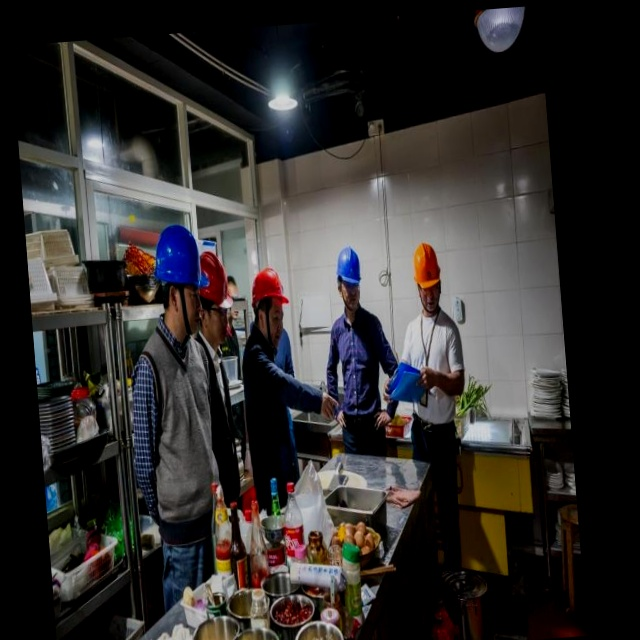Con_Casco: (151, 226, 206, 330), (249, 271, 290, 341), (411, 246, 443, 310)
Sin_Chaleco: (133, 332, 221, 518), (325, 311, 384, 421)
